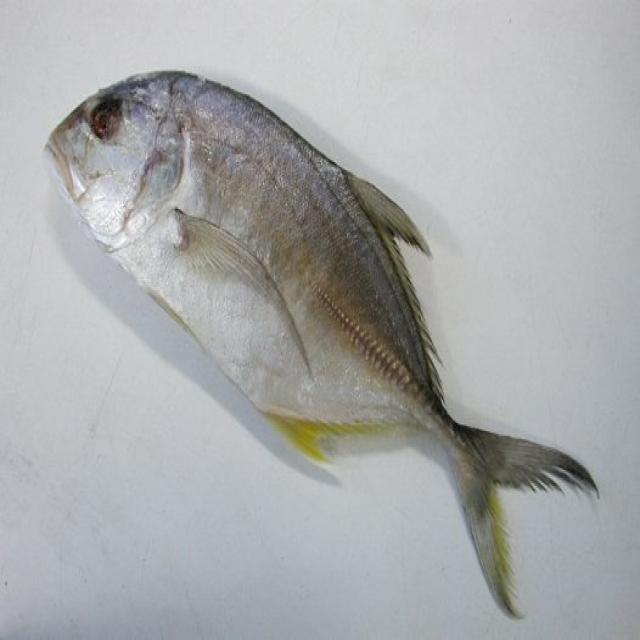ikan: (29, 36, 616, 606)
